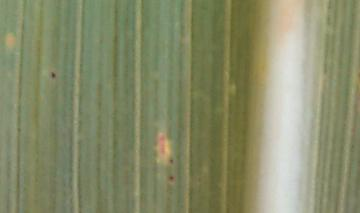tarspot: (167, 173, 175, 182), (51, 71, 57, 81), (167, 157, 175, 164)
